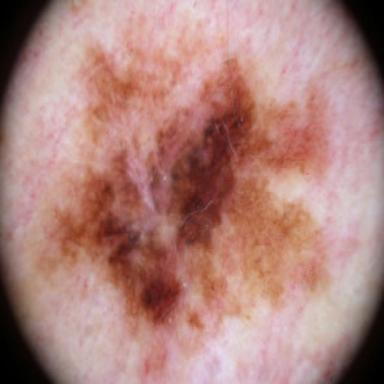Melanoma: (21, 14, 345, 384), (180, 201, 183, 204)
